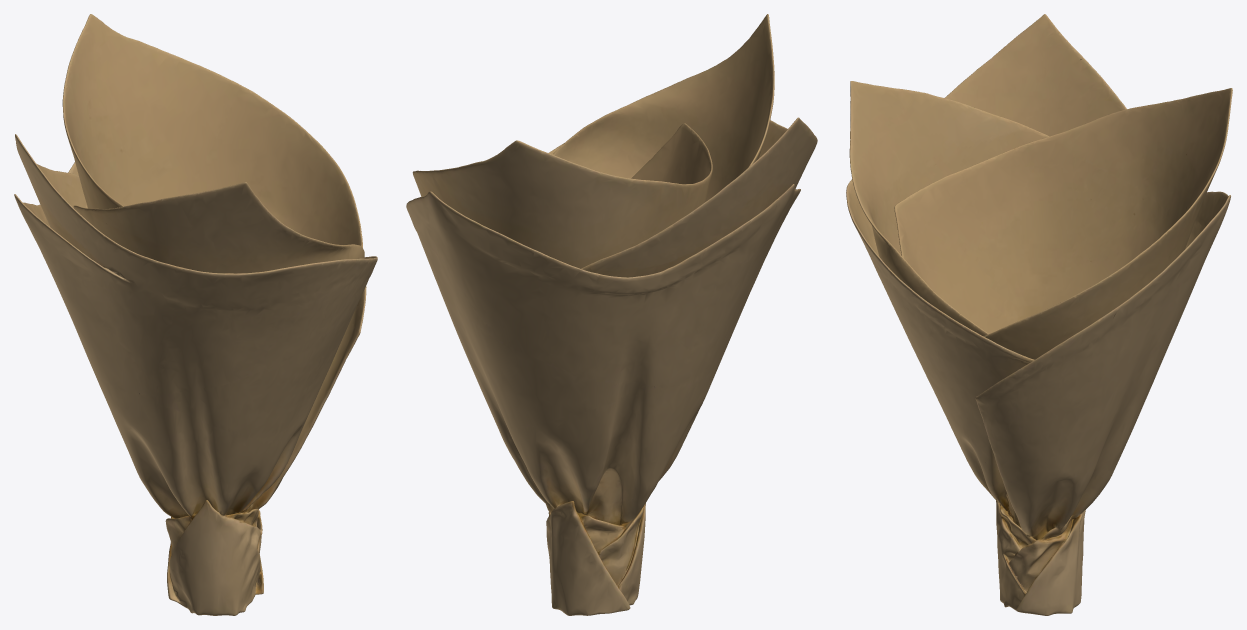
The model's file is paper bouquet wrap 3d model_opt.glb.
3 renders of one model, left to right at view 1: azimuth 30°, elevation 25°; view 2: azimuth 150°, elevation 25°; view 3: azimuth 270°, elevation 25°, orthographic. The views are drawn at different scales.
Visible parts, largest first — view 1: tripo_node_a72d2fa8-1fd3-490b-9b69-0b68e6026265; view 2: tripo_node_a72d2fa8-1fd3-490b-9b69-0b68e6026265; view 3: tripo_node_a72d2fa8-1fd3-490b-9b69-0b68e6026265.
Boxes of the visible parts, x1,y1,x2,y2 form: tripo_node_a72d2fa8-1fd3-490b-9b69-0b68e6026265: (14, 14, 377, 615); tripo_node_a72d2fa8-1fd3-490b-9b69-0b68e6026265: (406, 14, 817, 615); tripo_node_a72d2fa8-1fd3-490b-9b69-0b68e6026265: (846, 14, 1232, 615).
Bounding box in the file's own units: 0.6884 × 0.9998 × 0.6976.
1 material, 1 textured.
